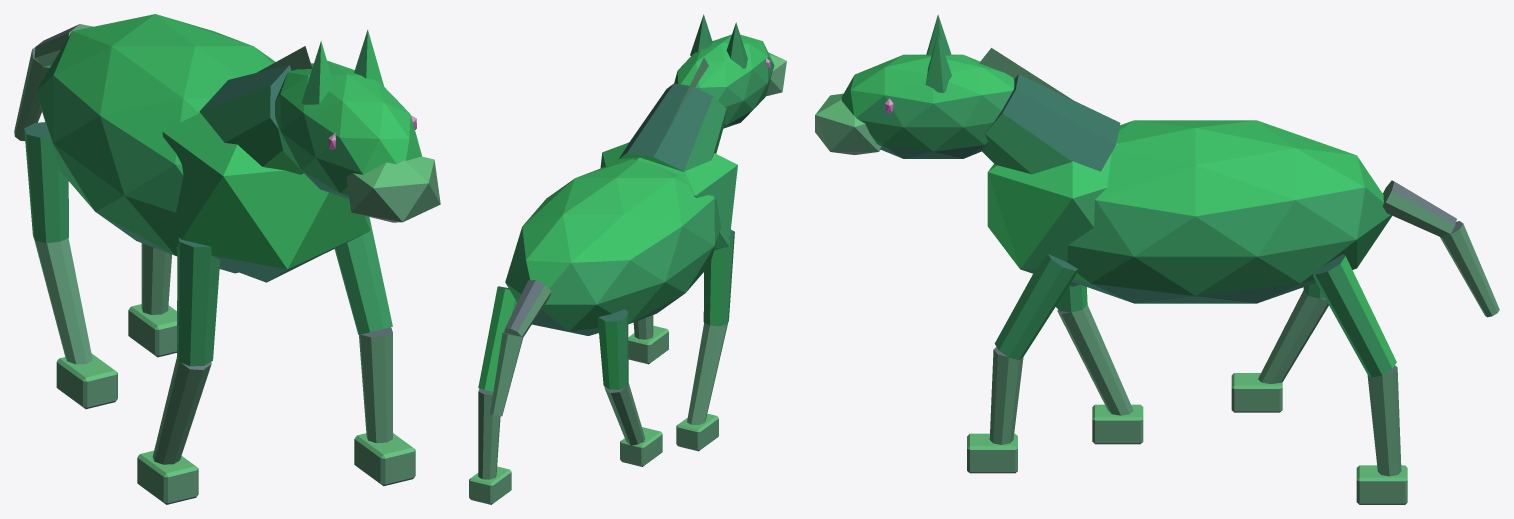
The model's file is creature_horse_passing_b_v01.glb.
3 views of the same model, side by side, from view 1: azimuth 30°, elevation 25°; view 2: azimuth 150°, elevation 25°; view 3: azimuth 270°, elevation 25° (orthographic). The views are drawn at different scales.
Parts seen in each view (by area): view 1: GEO_creature_horse_passing_b_v01; view 2: GEO_creature_horse_passing_b_v01; view 3: GEO_creature_horse_passing_b_v01.
Part boxes in pixels (x1=…): GEO_creature_horse_passing_b_v01: x1=14, y1=14, x2=440, y2=504; GEO_creature_horse_passing_b_v01: x1=469, y1=14, x2=786, y2=504; GEO_creature_horse_passing_b_v01: x1=815, y1=14, x2=1499, y2=504.
Bounding box in the file's own units: 0.913 × 2.12 × 2.95.
